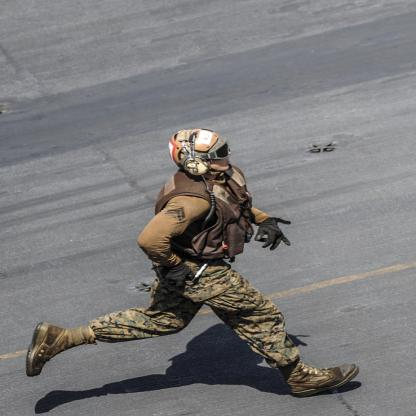Helmet: (170, 128, 228, 184)
